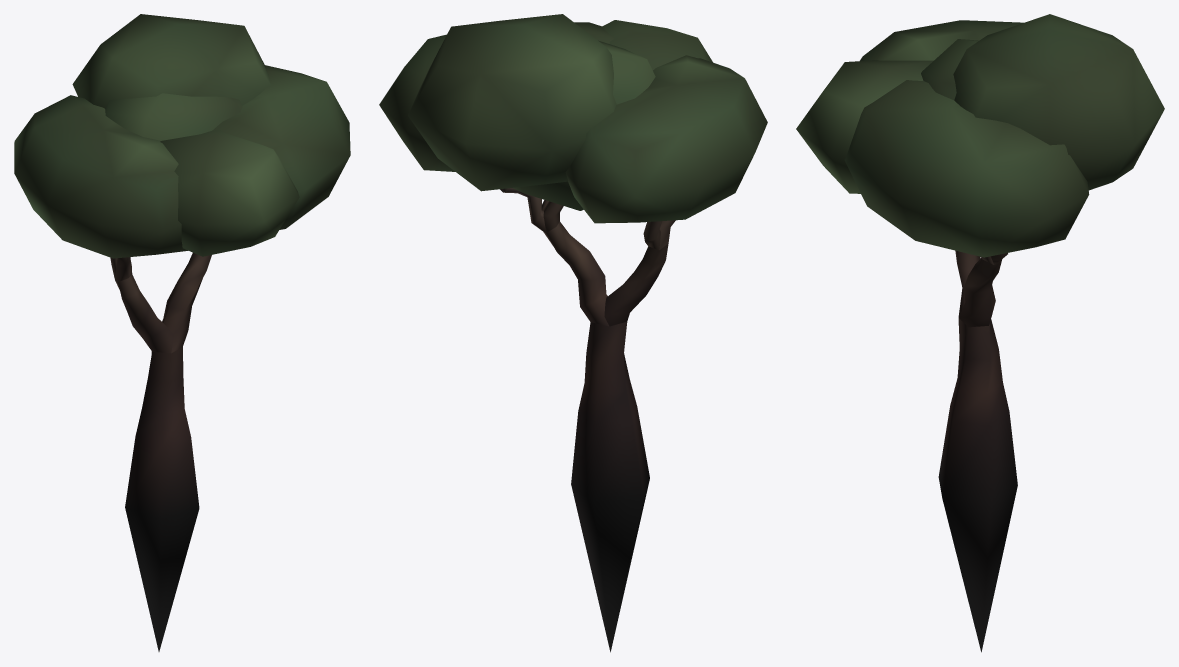
The picture shows the model from 3 angles, left to right: view 1: azimuth 30°, elevation 25°; view 2: azimuth 150°, elevation 25°; view 3: azimuth 270°, elevation 25°; orthographic projection. The views are drawn at different scales.
Visible parts, largest first — view 1: treeDecid.019; view 2: treeDecid.019; view 3: treeDecid.019.
Boxes of the visible parts, x1,y1,x2,y2 form: treeDecid.019: (14, 14, 350, 651); treeDecid.019: (379, 14, 767, 652); treeDecid.019: (796, 14, 1164, 652).
Size of the model in its own units: 0.2738 by 0.5 by 0.2571.
